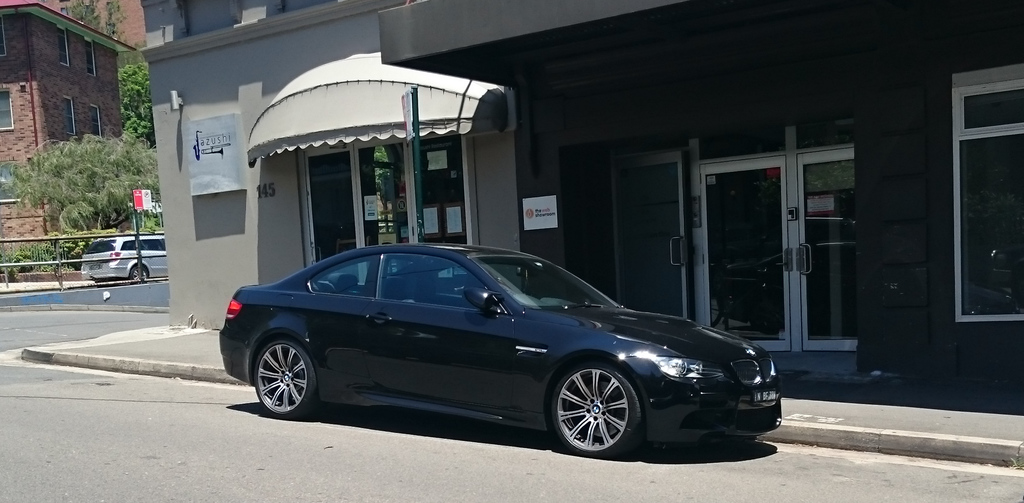Car: (212, 242, 778, 458), (81, 237, 167, 284)
